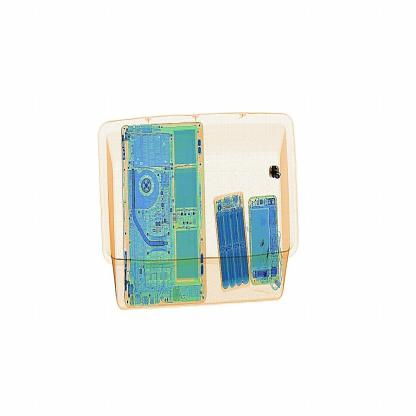scissors: (266, 162, 282, 184)
